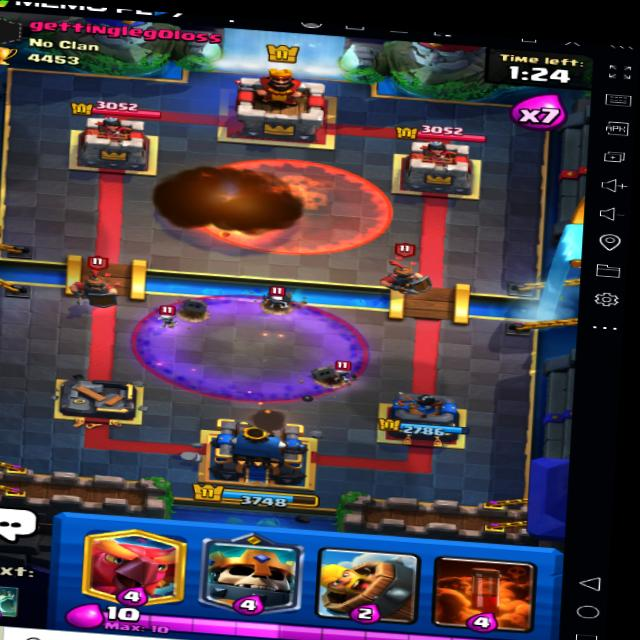graveyard: (127, 285, 376, 414)
poison: (187, 146, 395, 261)
royal-recruits: (367, 238, 441, 301), (64, 254, 122, 311)
skeleton: (257, 284, 302, 316), (325, 359, 366, 387), (155, 307, 185, 330)
